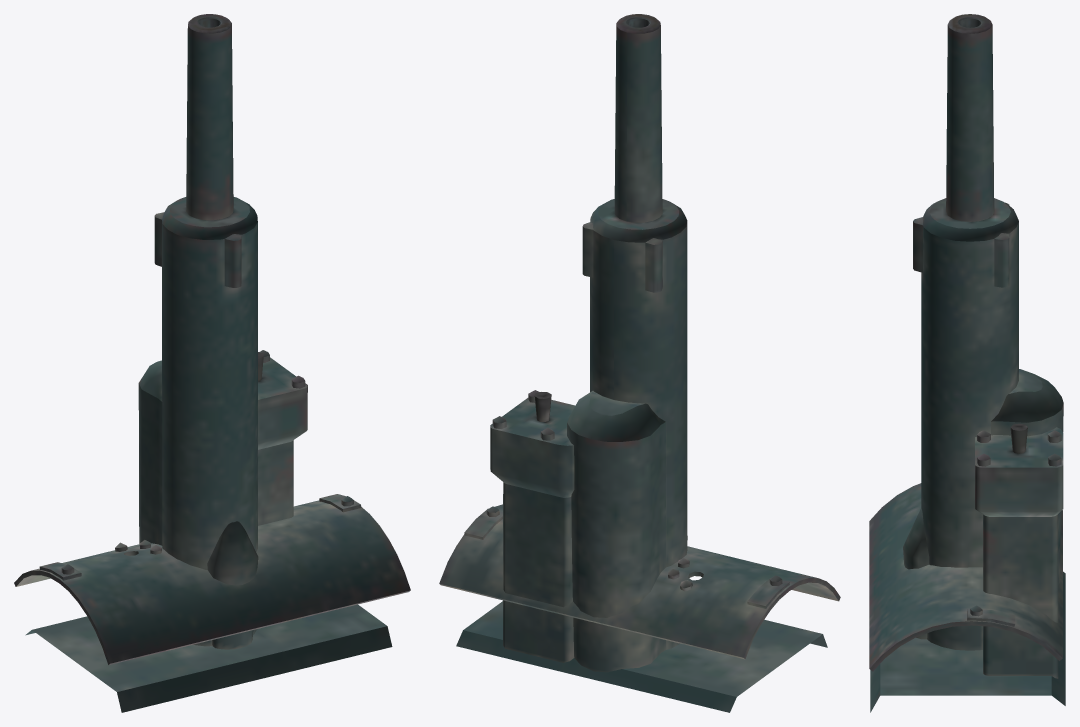
File: Gun_03.glb
3 views of the same model, side by side, from view 1: azimuth 30°, elevation 25°; view 2: azimuth 150°, elevation 25°; view 3: azimuth 270°, elevation 25° (orthographic).
Parts seen in each view (by area): view 1: set_0_group_0; view 2: set_0_group_0; view 3: set_0_group_0.
Part boxes in pixels (x1,y1,x2,y2): set_0_group_0: (14,14,410,712); set_0_group_0: (439,14,840,712); set_0_group_0: (869,14,1065,712).
Size of the model in its own units: 0.58 by 1.14 by 0.3253.
1 material, 1 textured.
